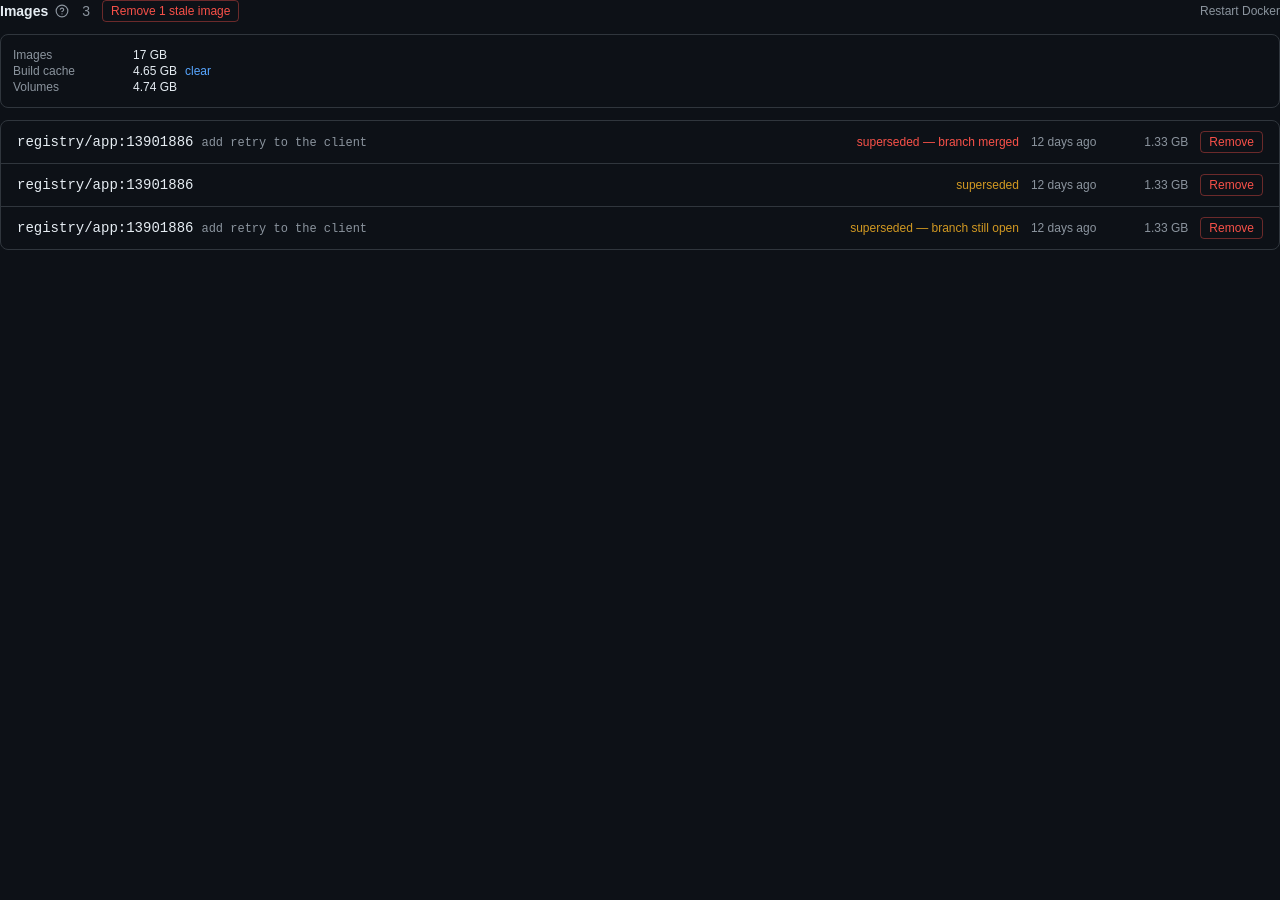
DockerPage › offers the wider set inside the confirmation, not as a second button
This screenshot has width=1280, height=900.
Click the button "Remove 1 stale image". click: (171,11)
box: [102, 0, 239, 22]
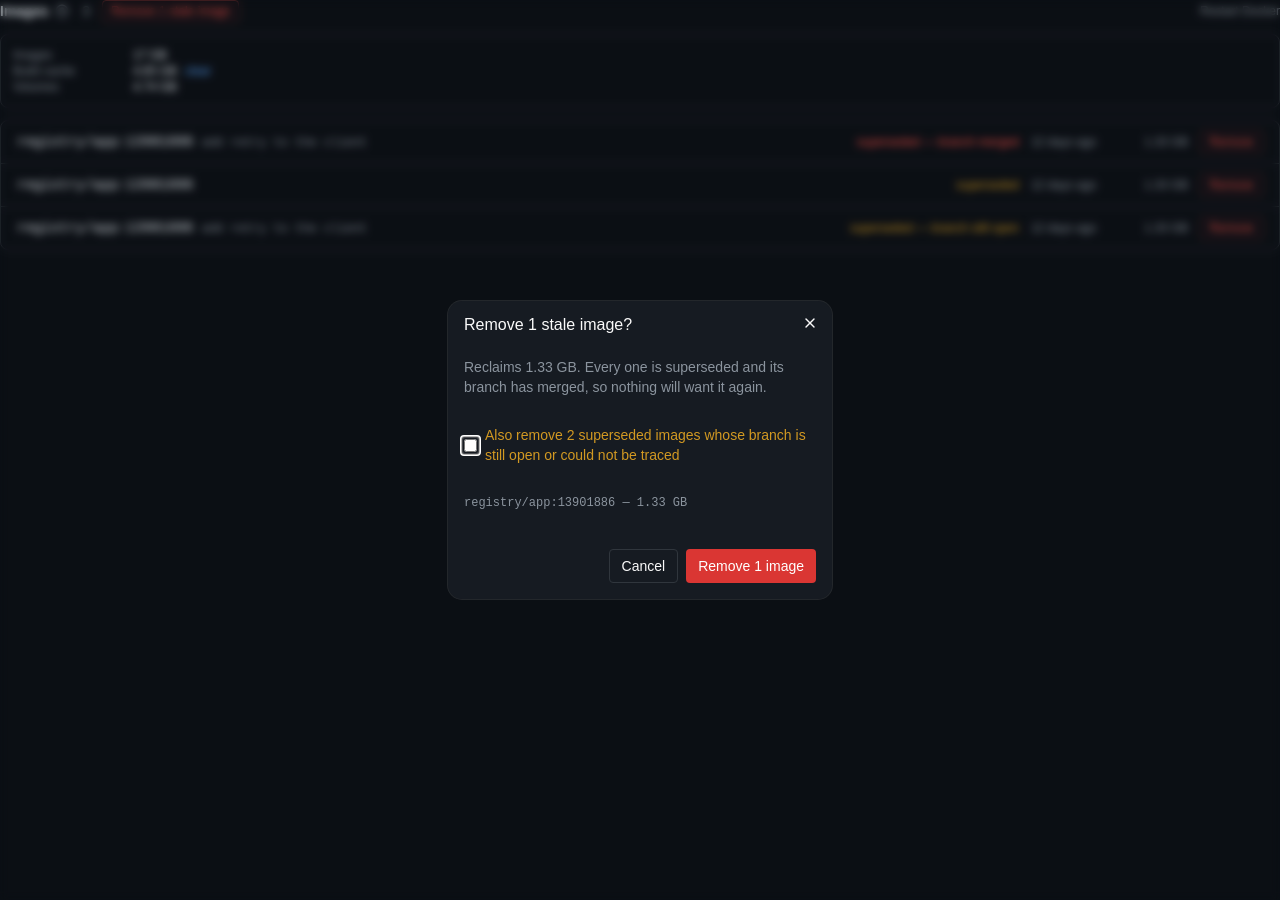
Expected: the text "Also remove 2 superseded images" is shown, [464, 425, 816, 465]
